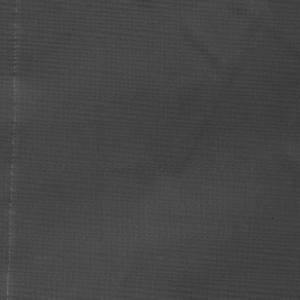Wrinkle: (126, 1, 300, 204)
